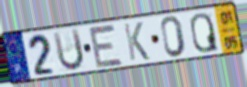0: (160, 15, 188, 59)
2: (27, 31, 60, 80)
E: (86, 23, 125, 70)
K: (122, 20, 152, 62)
Q: (189, 11, 221, 55)
U: (51, 27, 86, 73)
